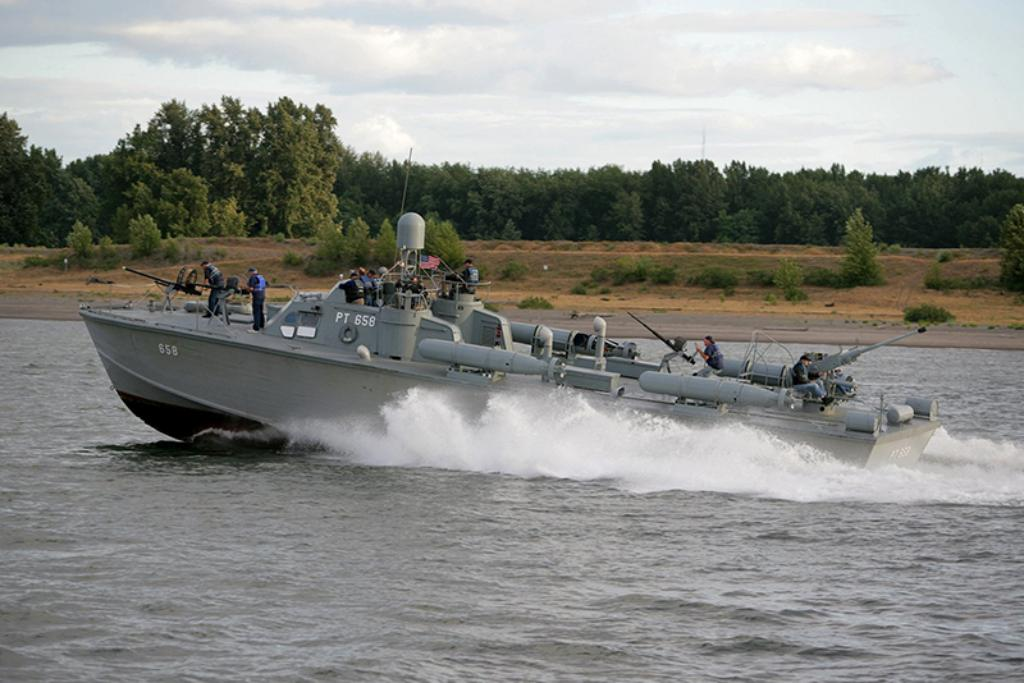Warship: (70, 165, 948, 499)
